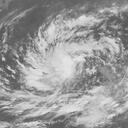cyclone: (15, 14, 97, 94)
